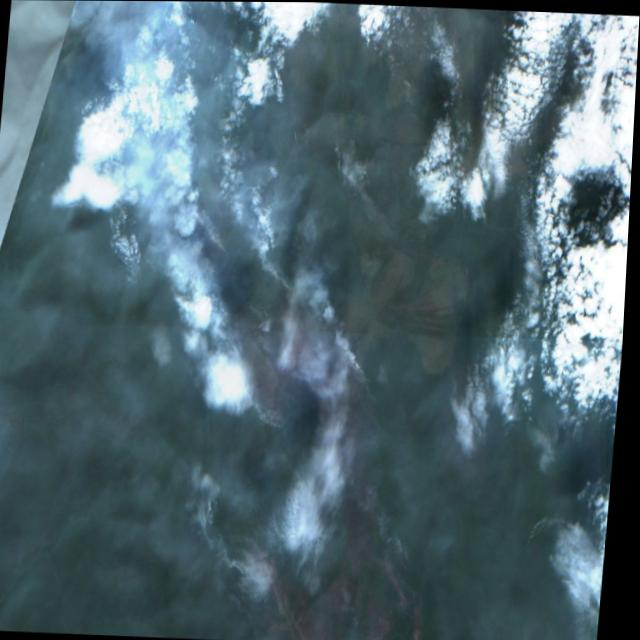fire: (164, 200, 410, 449)
